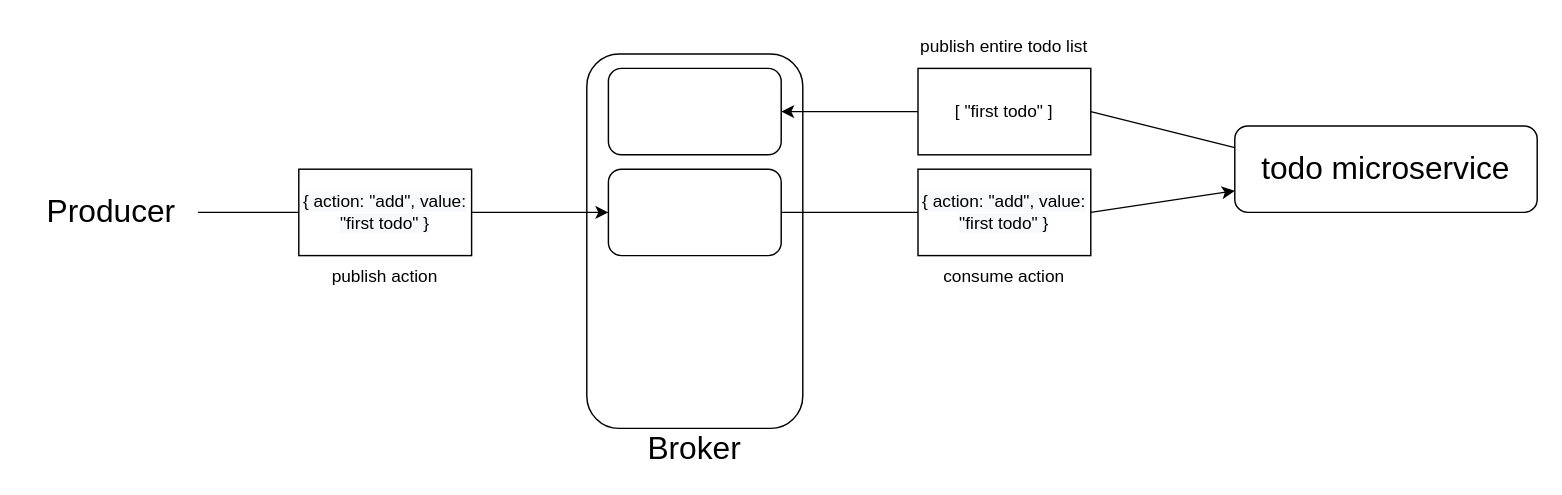
Image size: 1562x495. Some labels were removed from this diagram. The shapes that lost their labels are listed below. From the top down, each one's centre as x and y in pixels, then its label:
the point at 694,111: todo-list
the point at 694,212: todo-action
